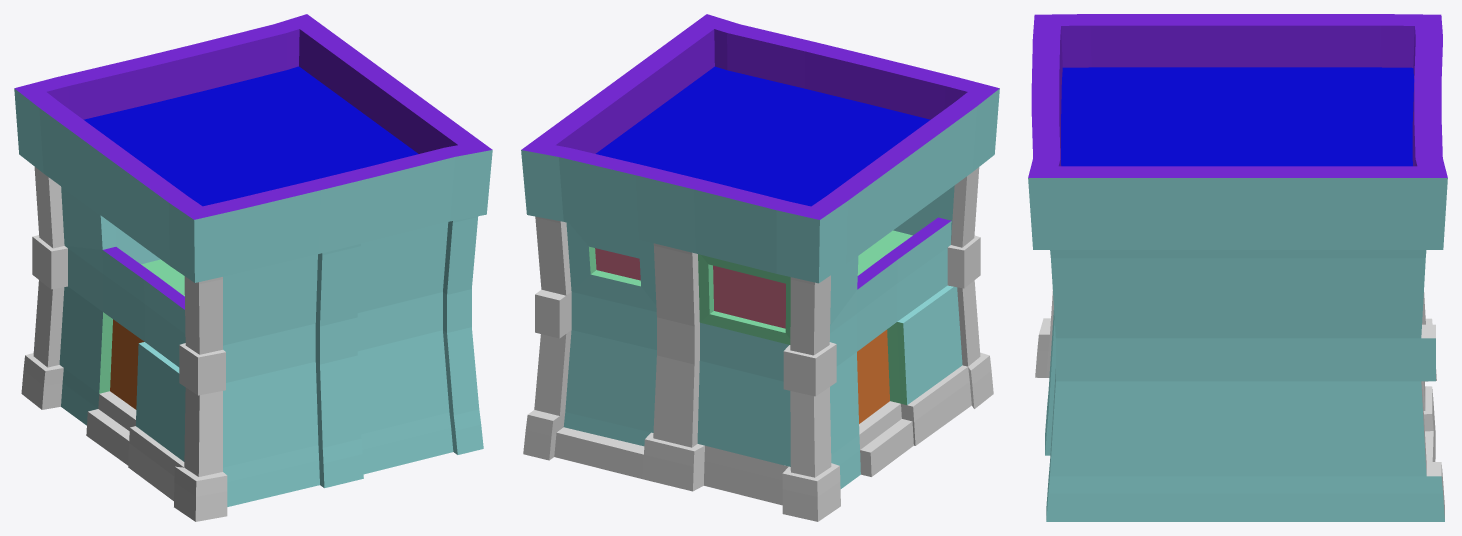
File: Modelo Casinha Laje 2.fbx
3 renders of one model, left to right at view 1: azimuth 30°, elevation 25°; view 2: azimuth 150°, elevation 25°; view 3: azimuth 270°, elevation 25°, orthographic. The views are drawn at different scales.
Parts seen in each view (by area): view 1: Cube; view 2: Cube; view 3: Cube.
Part boxes in pixels (<box>): Cube: <box>14,14,492,521</box>; Cube: <box>521,14,999,521</box>; Cube: <box>1028,14,1447,521</box>.
Size of the model in its own units: 207 by 202 by 224.
